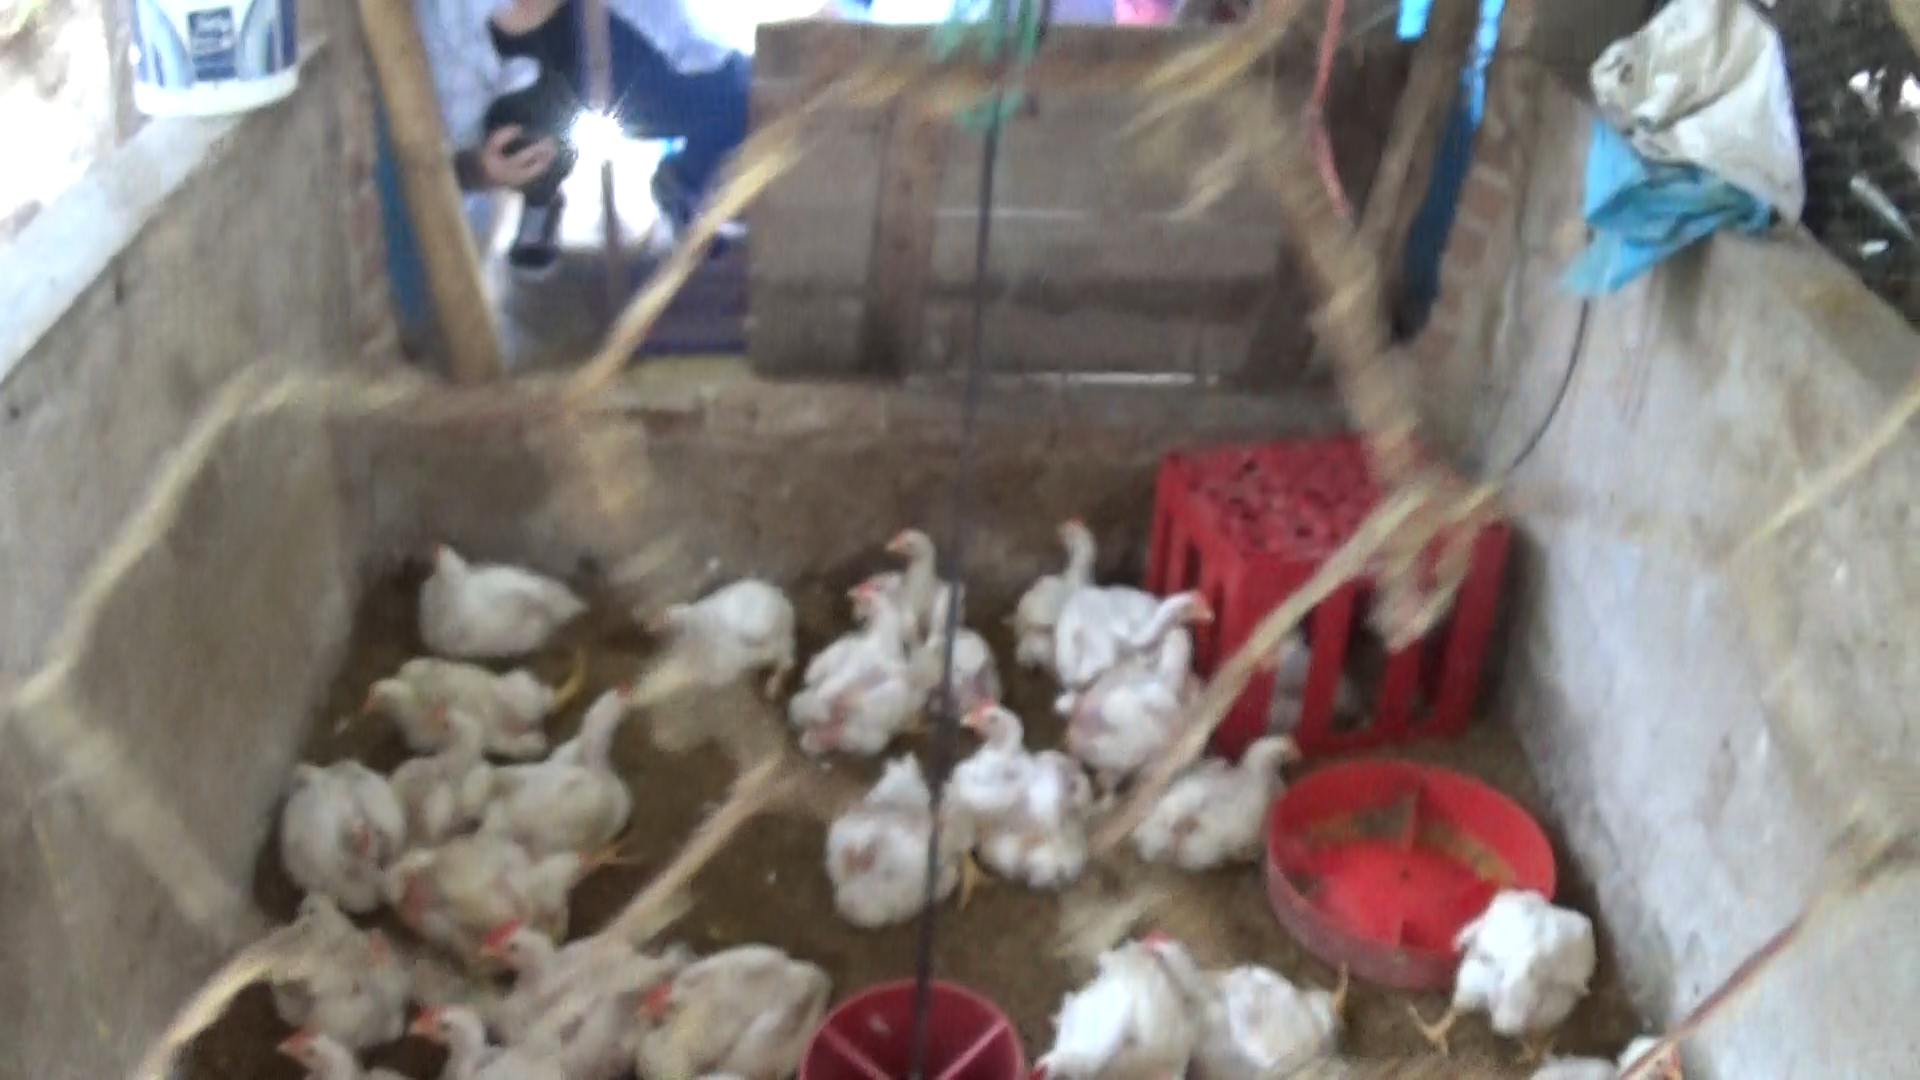Pollos: (1137, 905, 1348, 1075), (473, 675, 653, 851), (472, 911, 673, 1050), (624, 943, 825, 1080), (1433, 889, 1597, 1056), (1124, 735, 1323, 868), (945, 703, 1087, 876), (786, 578, 916, 760), (356, 642, 591, 742), (1015, 944, 1185, 1080), (380, 823, 574, 942), (825, 754, 957, 926), (1063, 611, 1200, 773), (413, 541, 584, 657), (642, 568, 796, 696), (1063, 583, 1221, 699), (282, 753, 402, 906), (382, 692, 491, 837), (1007, 504, 1097, 667), (404, 1000, 568, 1080), (924, 574, 1006, 720), (855, 518, 957, 622), (272, 1021, 396, 1080)
